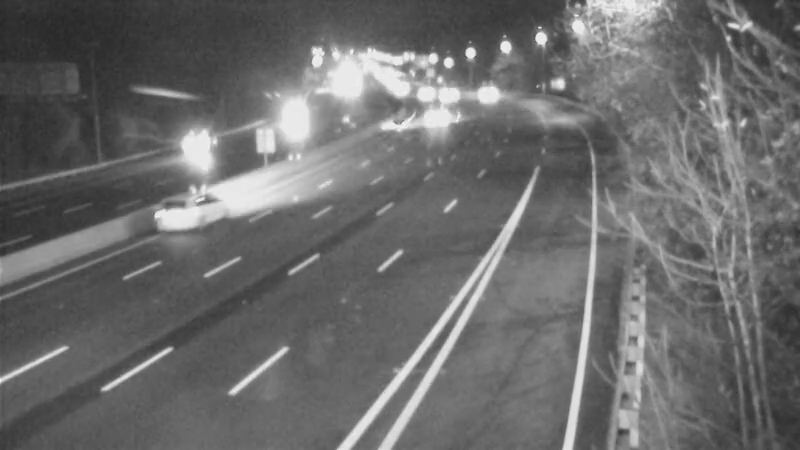vehicle: (143, 175, 223, 255), (461, 67, 511, 117), (398, 72, 448, 122), (422, 68, 472, 118), (412, 91, 462, 141), (371, 100, 421, 150), (171, 121, 221, 171), (273, 91, 323, 141)
